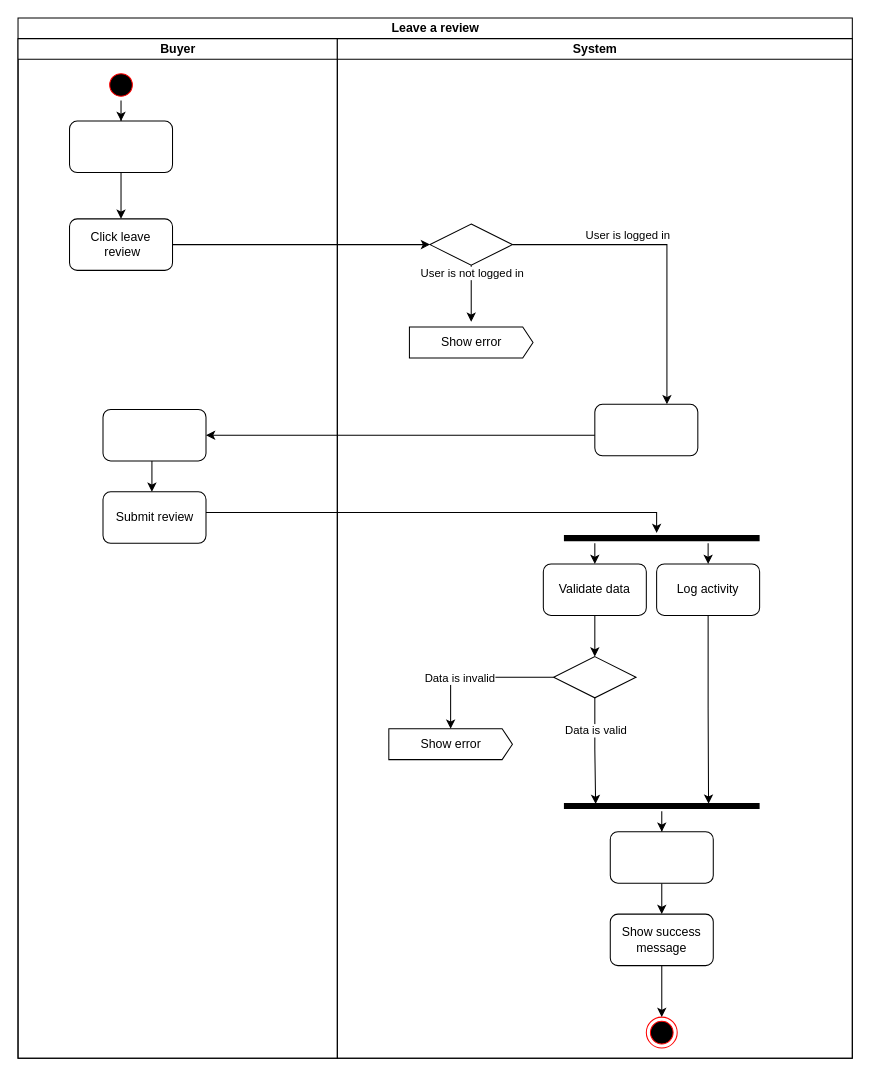
This 870x1076 diagram has some shape labels left out. The centre of each missing label's shape, as x and y in pixels:
"Display form" belongs at pixel 646 429.
"Enter review data" belongs at pixel 154 434.
"Insert review into DB" belongs at pixel 661 857.
"Open product page" belongs at pixel 120 146.
